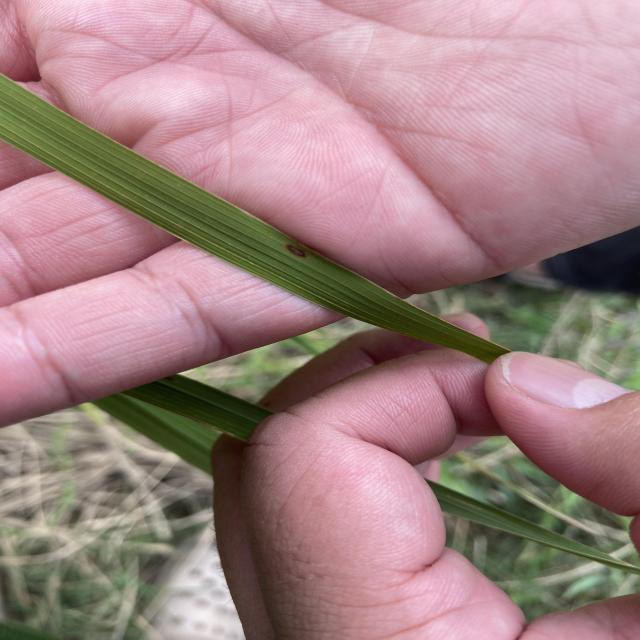Dao on: (283, 243, 308, 259)
